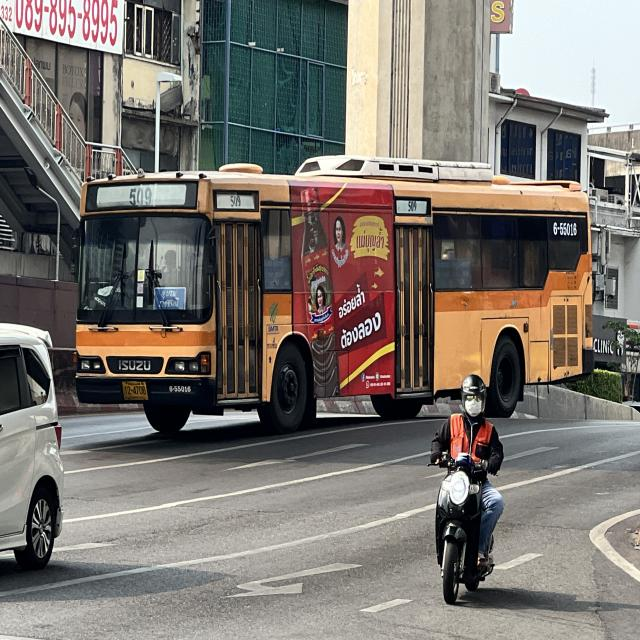BMTA-bus: (71, 156, 594, 439)
Bus-Line-Number: (125, 186, 159, 206)
Destination-Sign-Normal: (152, 286, 187, 311)
